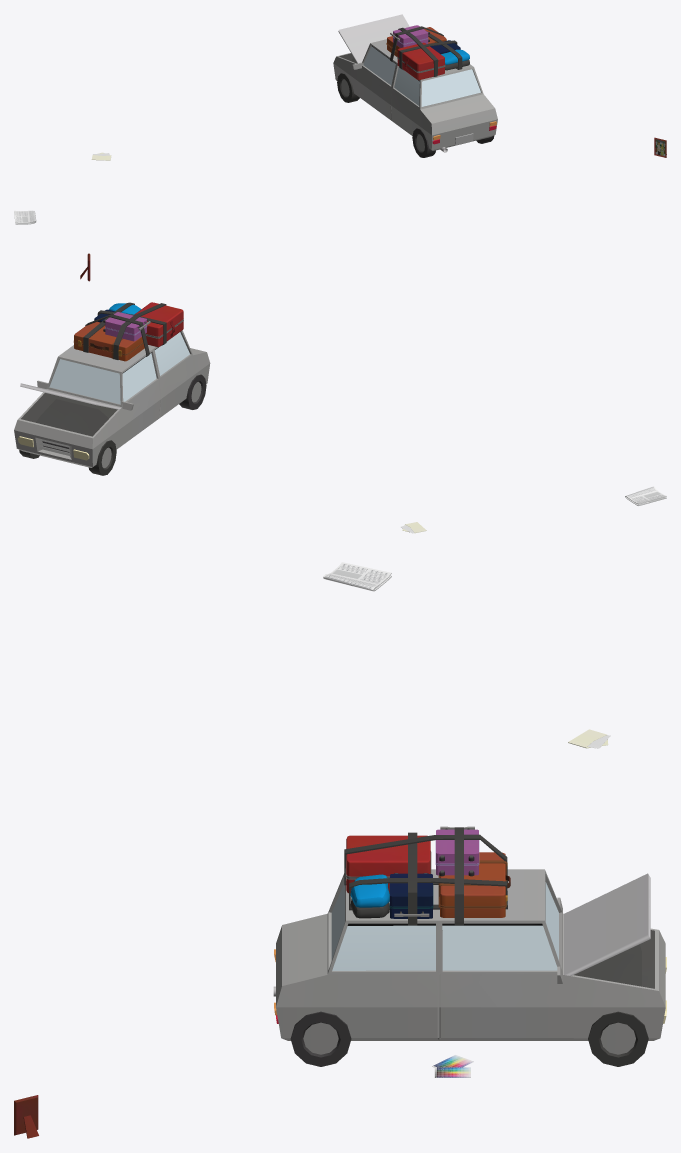
Rendered from SM_Broken_car_level_dressing_00.fbx.
3 views of the same model, one above another, from view 1: azimuth 30°, elevation 25°; view 2: azimuth 150°, elevation 25°; view 3: azimuth 270°, elevation 25° (orthographic). The views are drawn at different scales.
Visible parts, largest first — view 1: polySurface2, polySurface1, pCube11, pPipe6, pCube15; view 2: polySurface2, pCube22, pPipe6, pCube11, pCube15, pPipe1, polySurface1; view 3: polySurface2, polySurface1, pPipe6, pCube11, pCube22, pCube15, pCube21, pPipe1, SM_props_bag_04, polySurface148.
Boxes of the visible parts, left/top/right/bottom form: polySurface2: left=333, top=39, right=497, bottom=157; polySurface1: left=338, top=14, right=409, bottom=63; pCube11: left=397, top=42, right=445, bottom=80; pPipe6: left=390, top=26, right=462, bottom=76; pCube15: left=393, top=25, right=428, bottom=47; polySurface2: left=14, top=330, right=210, bottom=475; pCube22: left=73, top=321, right=144, bottom=361; pPipe6: left=83, top=302, right=166, bottom=359; pCube11: left=134, top=302, right=183, bottom=346; pCube15: left=105, top=312, right=147, bottom=341; pPipe1: left=625, top=486, right=666, bottom=505; polySurface1: left=20, top=383, right=121, bottom=409; polySurface2: left=273, top=869, right=666, bottom=1066; polySurface1: left=564, top=873, right=650, bottom=975; pPipe6: left=344, top=827, right=507, bottom=925; pCube11: left=345, top=835, right=431, bottom=893; pCube22: left=438, top=852, right=506, bottom=917; pCube15: left=435, top=829, right=479, bottom=875; pCube21: left=389, top=873, right=433, bottom=918; pPipe1: left=323, top=562, right=391, bottom=591; SM_props_bag_04: left=350, top=874, right=389, bottom=907; polySurface148: left=14, top=1095, right=38, bottom=1138.
Bounding box in the file's own units: 1349 × 214 × 676.
